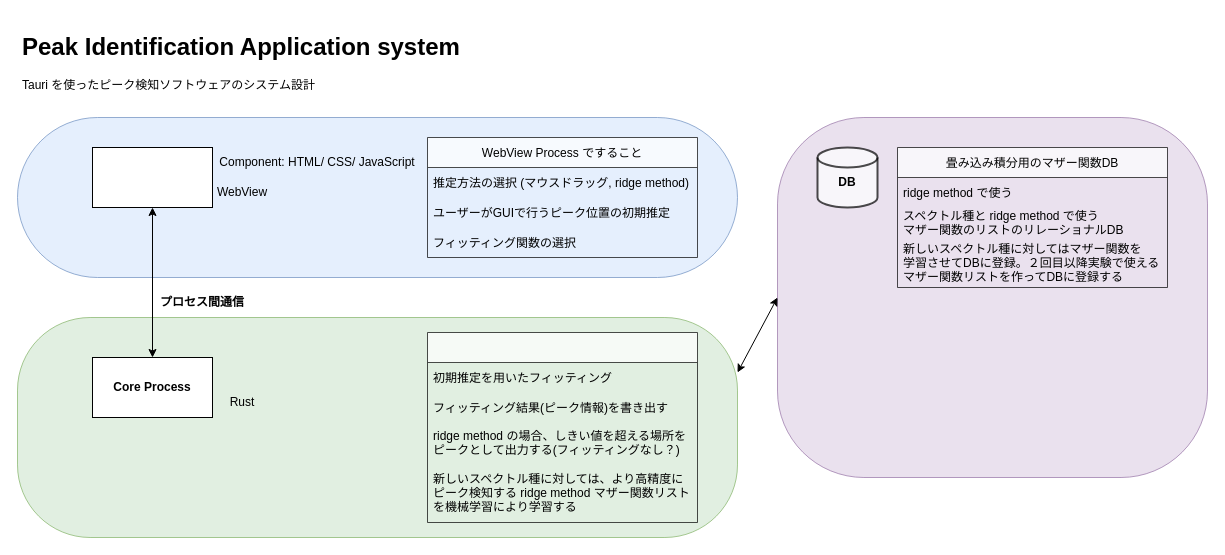
This 1225x555 diagram has some shape labels left out. Here are the shapes that lost their labels. From the top down, the box of each, then its label:
(92, 146, 212, 208): WebView Process
(426, 332, 698, 522): Core Process ですること
